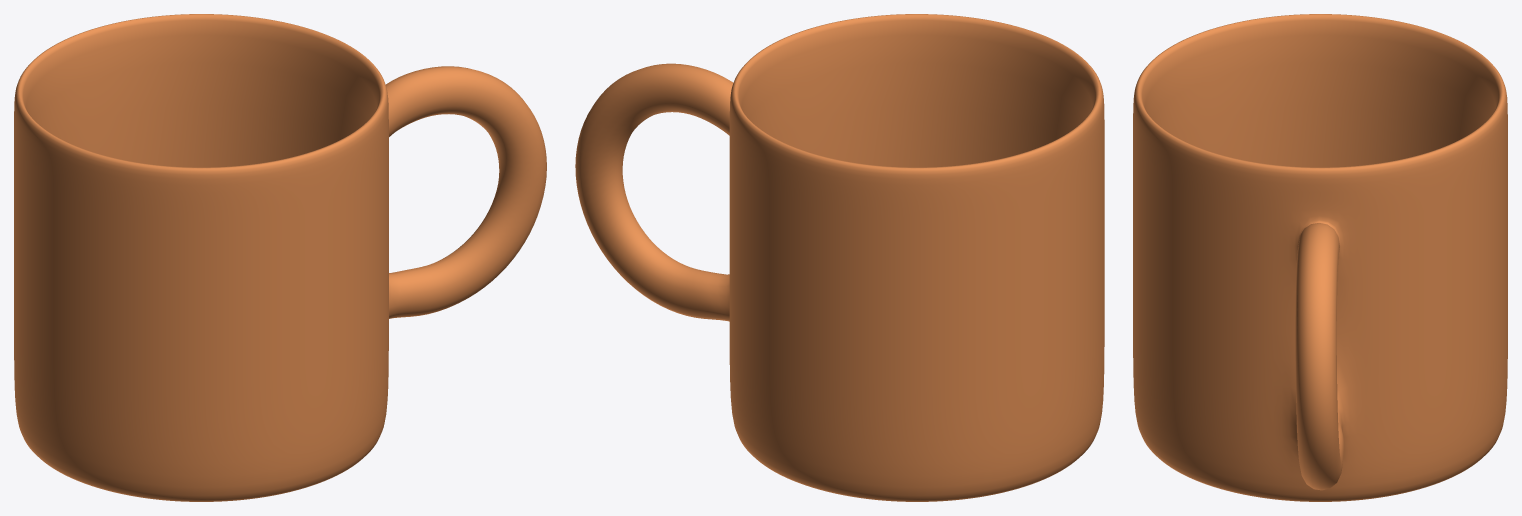
Rendered from mug.gltf.
The picture shows the model from 3 angles, left to right: view 1: azimuth 30°, elevation 25°; view 2: azimuth 150°, elevation 25°; view 3: azimuth 270°, elevation 25°; orthographic projection.
Visible parts, largest first — view 1: Cylinder; view 2: Cylinder; view 3: Cylinder.
Part boxes in pixels (bbox=[...]): Cylinder: bbox=[14, 14, 546, 501]; Cylinder: bbox=[575, 14, 1104, 501]; Cylinder: bbox=[1133, 14, 1507, 501].
Size of the model in its own units: 1.04 by 0.6648 by 0.6703.
